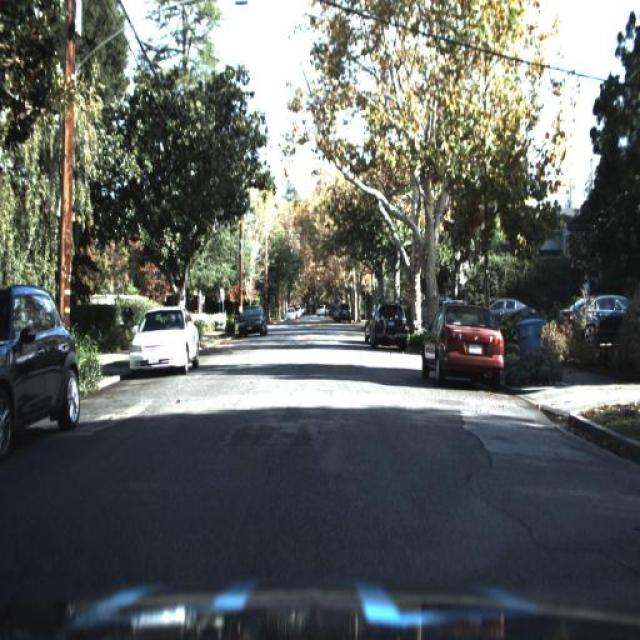car: (0, 280, 82, 470), (418, 301, 502, 379), (561, 281, 628, 350), (130, 308, 194, 372), (371, 296, 414, 348), (481, 286, 535, 324), (241, 305, 268, 336), (332, 298, 352, 324)
